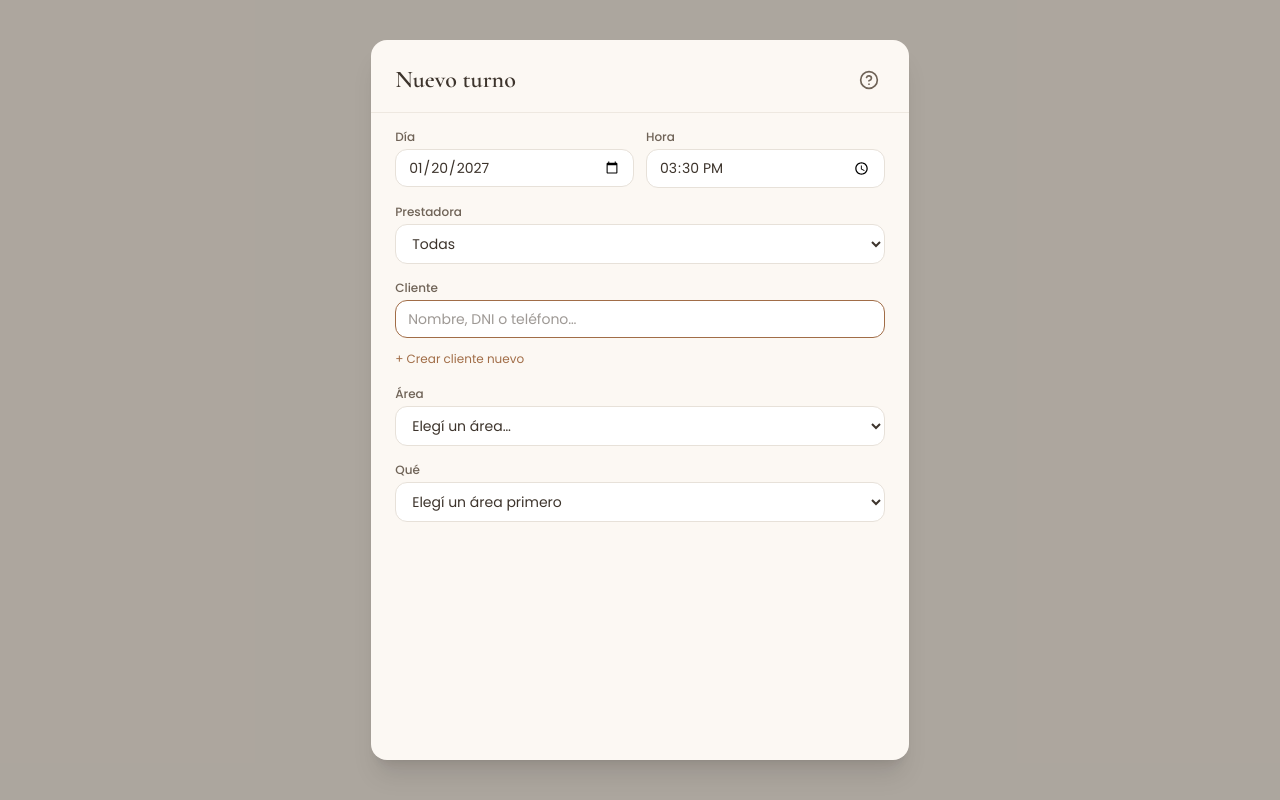
Test: NuevoTurnoModal — buscar desde el servicio (filtros cruzados) › si una sola lo hace, queda elegida sola
The width and height of the screenshot is (1280, 800).
Step 1. Select "Estética" in the dropdown labelled "Área" → (640, 426), box left=395, top=406, right=885, bottom=446
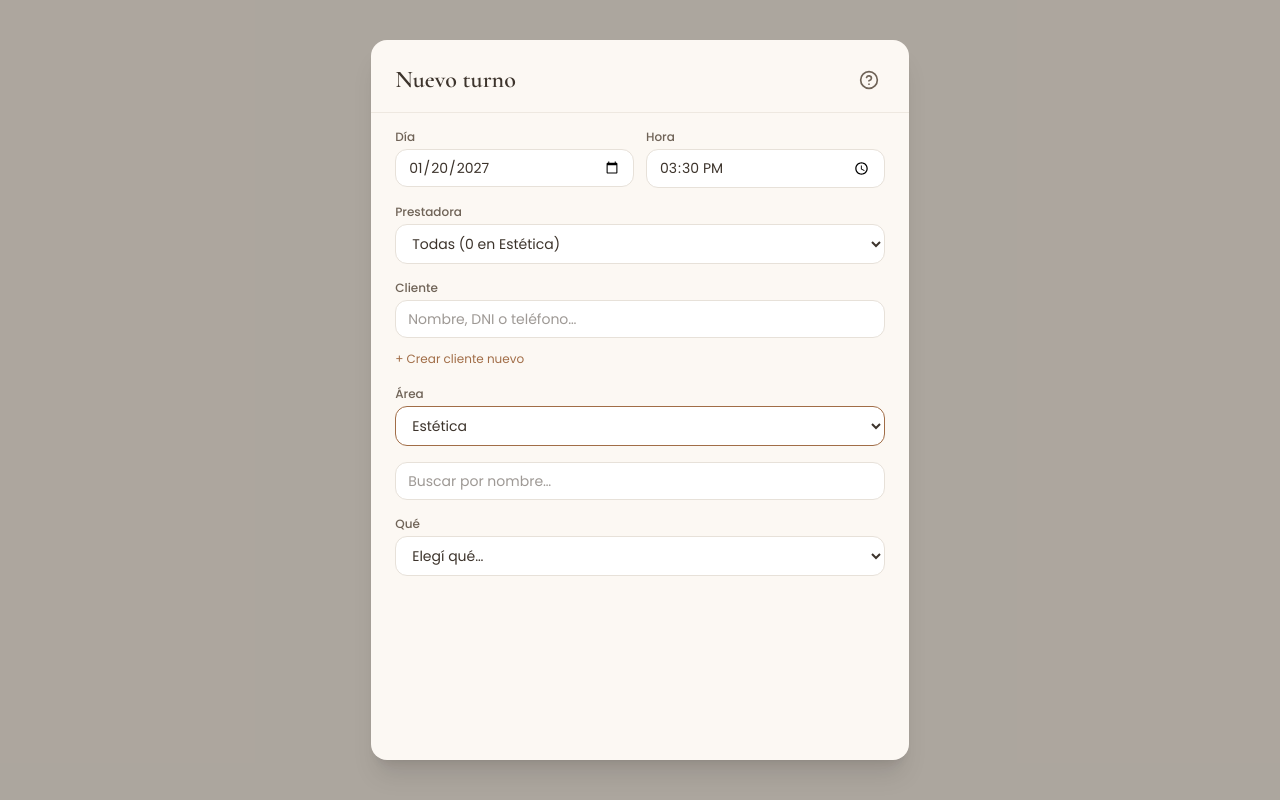
Step 2. Select "Pack Glow x4 · desde $10.000" in the dropdown labelled "Qué" → (640, 556), box left=395, top=536, right=885, bottom=576
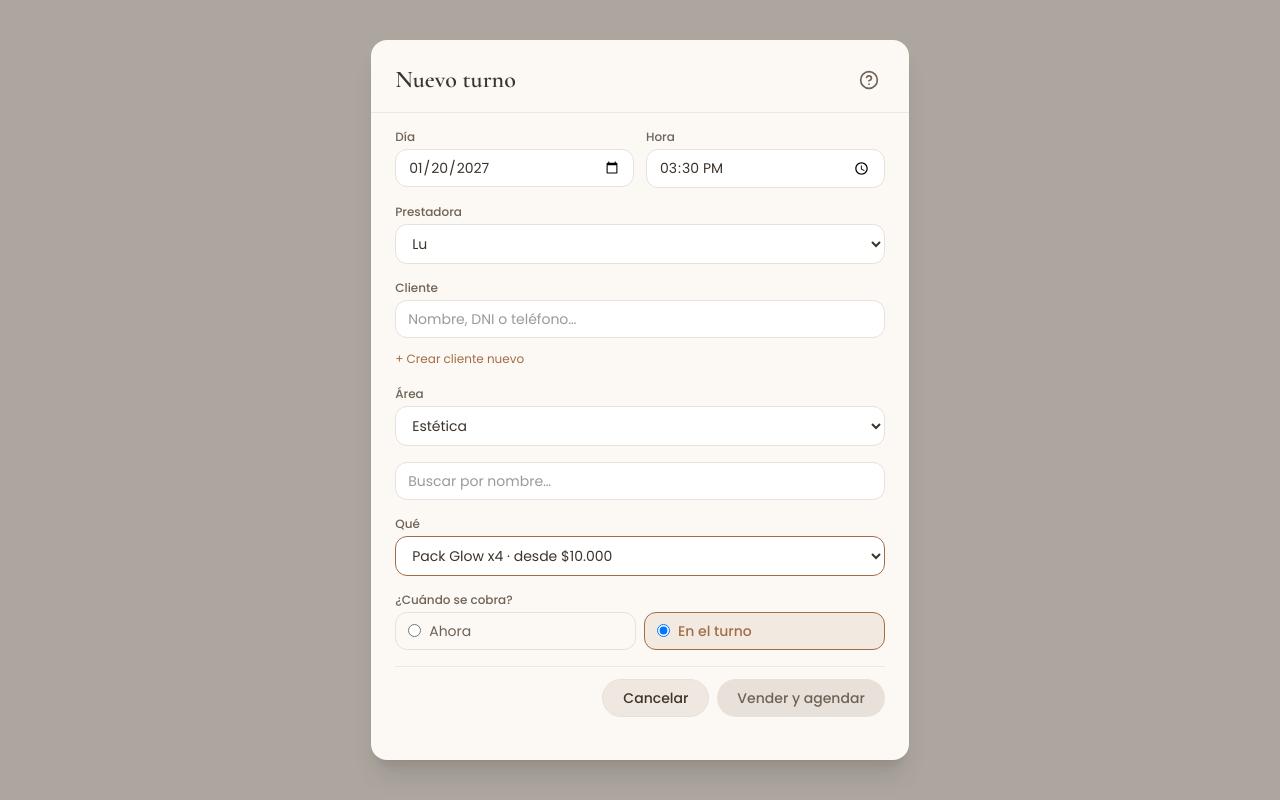
Expected: the dropdown labelled "Prestadora" shows "Lu", left=395, top=224, right=885, bottom=264
